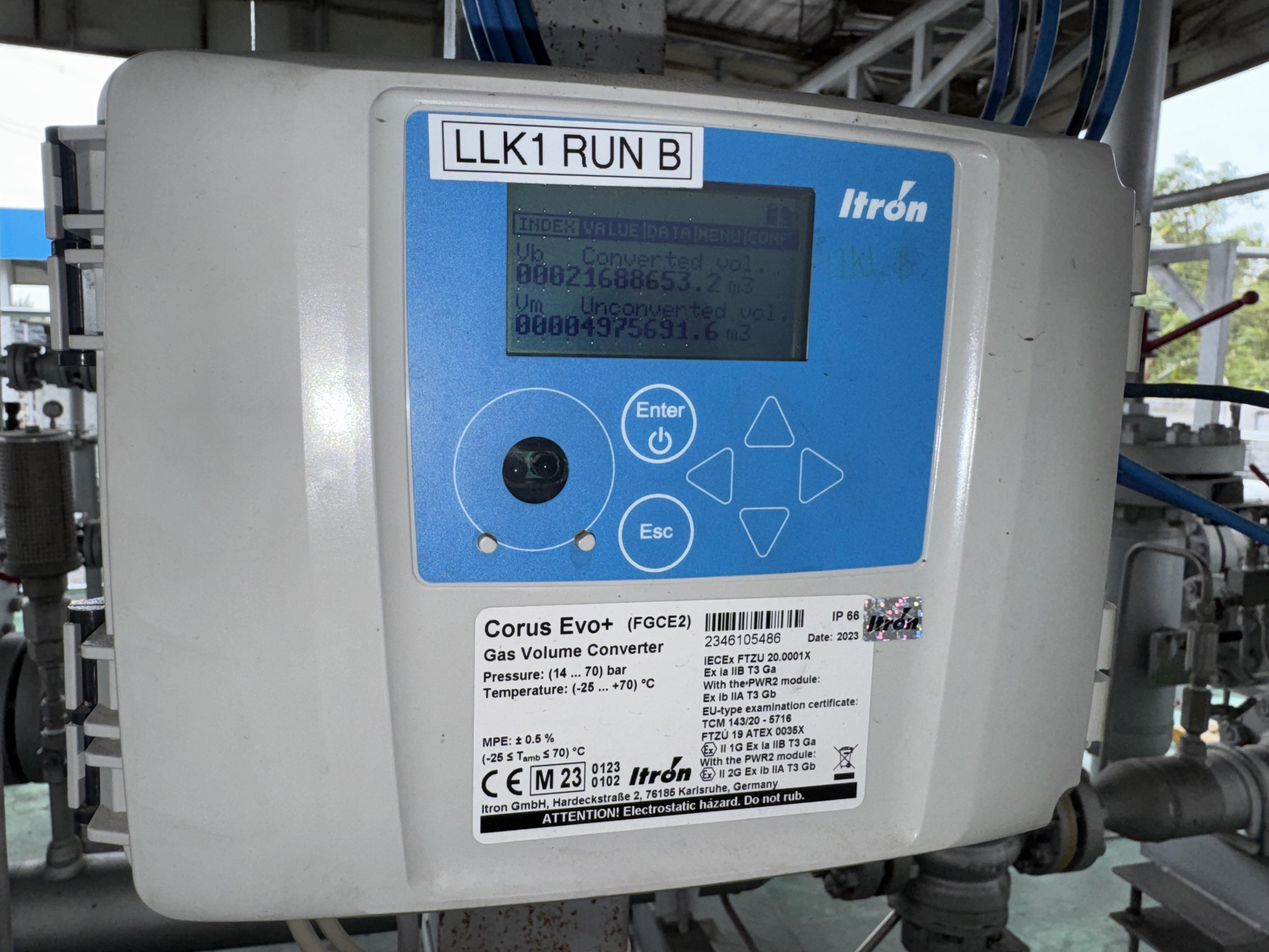digital_screen: (504, 168, 816, 361)
